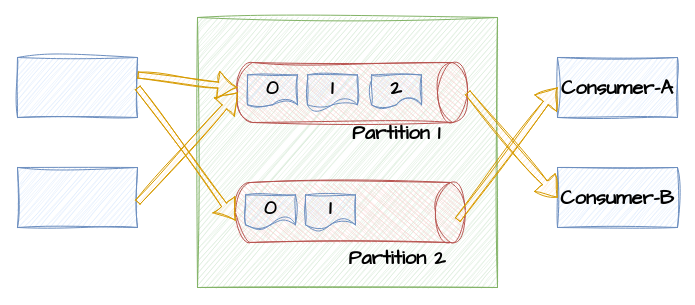
Some shapes in this 695 by 305 pixel diagram are drawn without their labels. The box of each missing label's shape, as (x1, y1, x2, y2) in pixels:
Producer-A: (16, 56, 138, 118)
Producer-B: (16, 166, 138, 228)
Topic: (196, 16, 498, 288)
